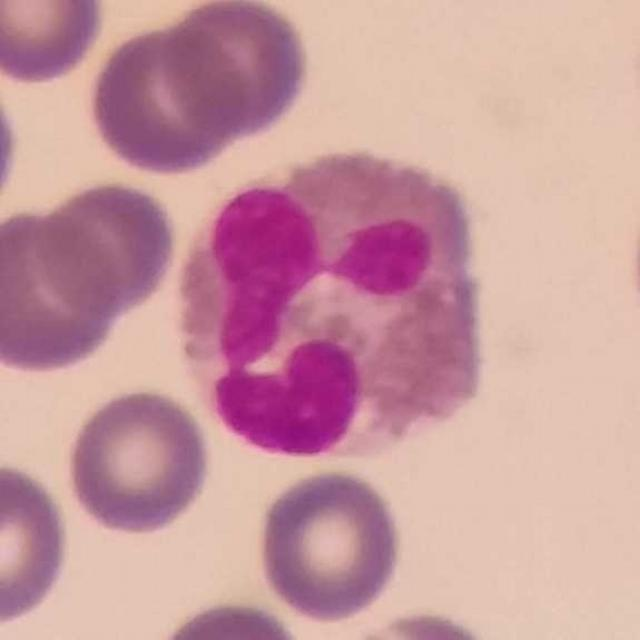eosino: (177, 148, 489, 457)
